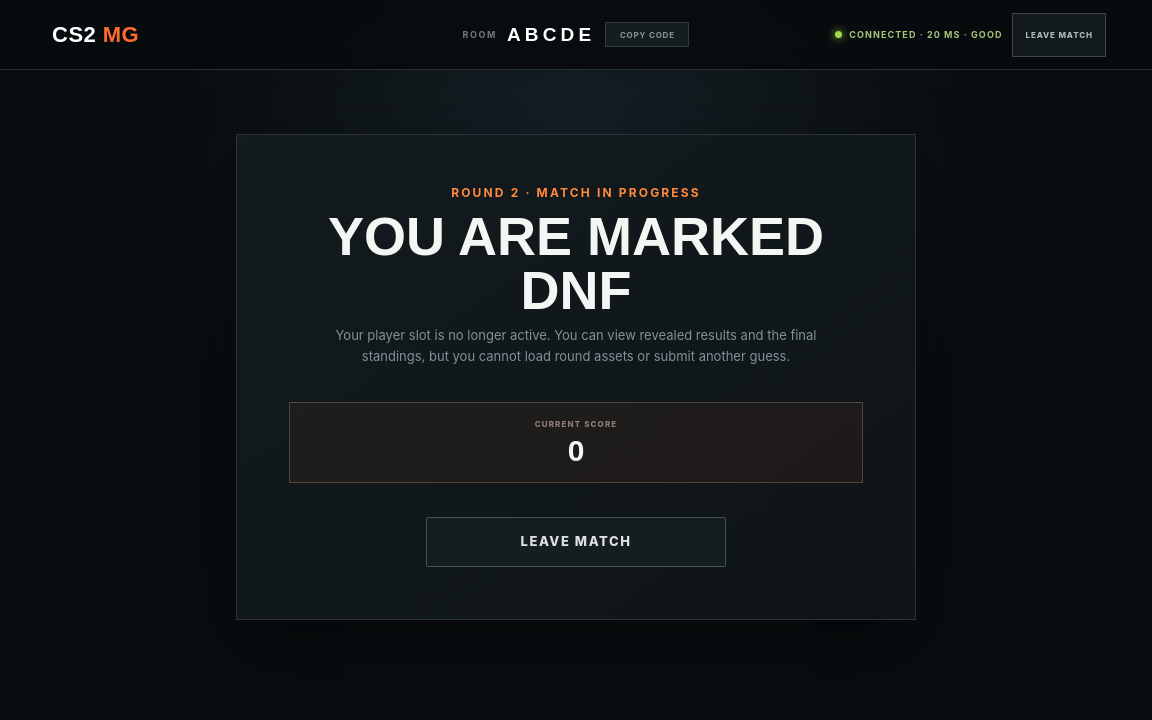
Test: RoomPage multiplayer lobby wiring › uses match copy during active play and Cancel preserves the match
Click the button "LEAVE MATCH" next to "CONNECTED · 20 MS · GOOD": [1059, 34] box [1012,12,1106,56]
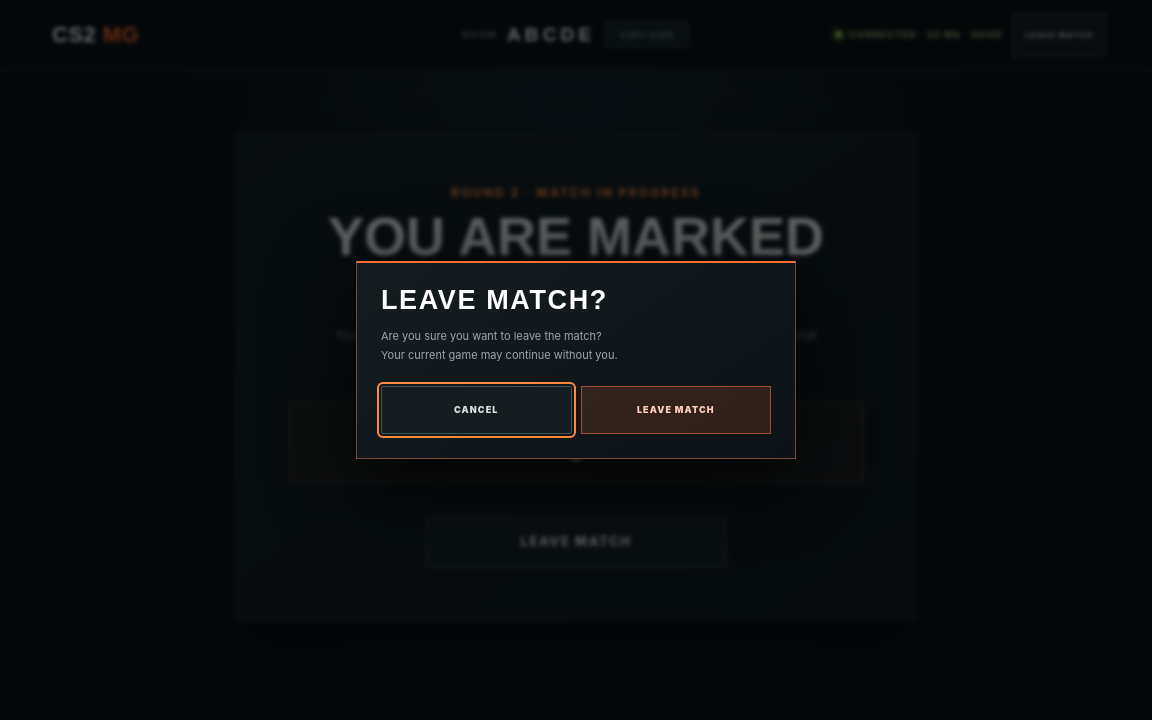
expect the dialog "LEAVE MATCH?" is shown: met, box [356,261,796,459]
Click the button "CANCEL": [476, 410] box [381,386,572,434]
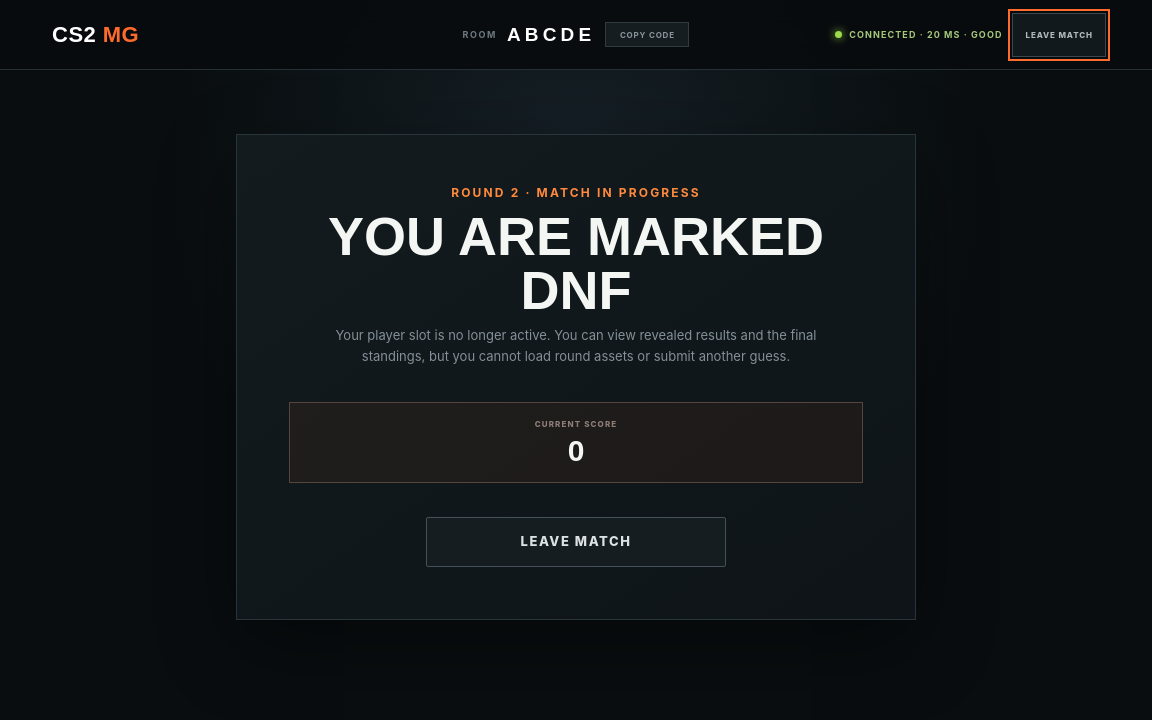
expect the heading "YOU ARE MARKED DNF" is shown: met, box [289,209,863,317]
expect the dialog is gone: met
